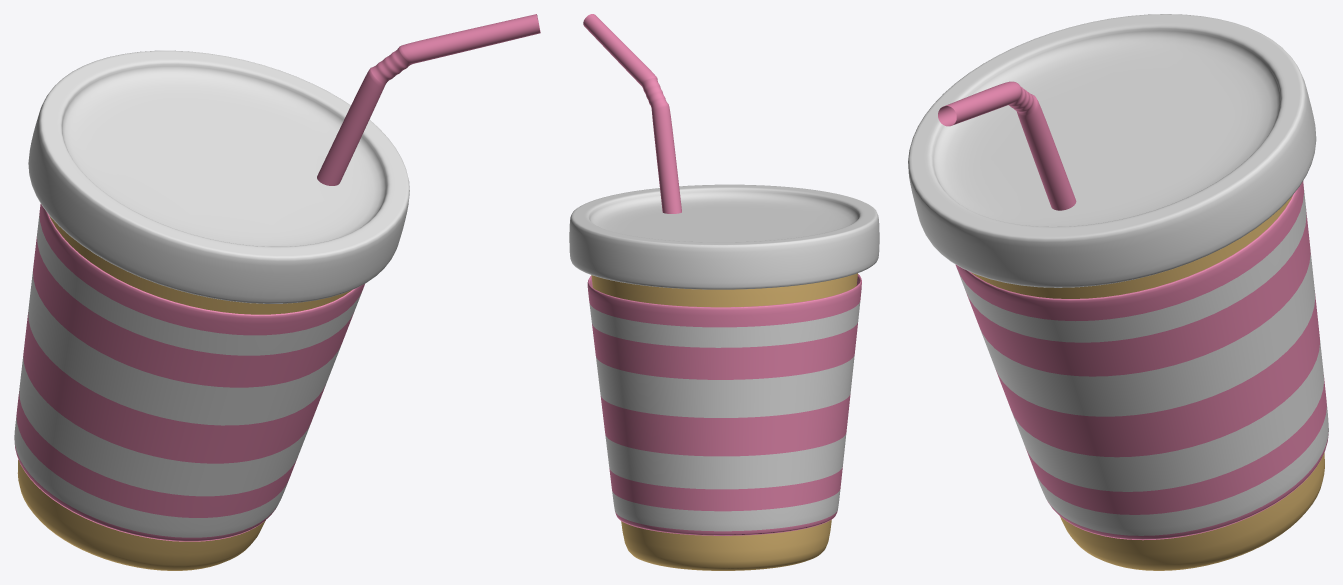
The model's file is licuado.glb.
3 renders of one model, left to right at view 1: azimuth 30°, elevation 25°; view 2: azimuth 150°, elevation 25°; view 3: azimuth 270°, elevation 25°, orthographic. The views are drawn at different scales.
Parts seen in each view (by area): view 1: Drink; view 2: Drink; view 3: Drink.
Part boxes in pixels (<box>): Drink: <box>14,14,540,570</box>; Drink: <box>569,14,879,570</box>; Drink: <box>908,14,1328,570</box>.
Size of the model in its own units: 5.52 by 6.81 by 4.56.
